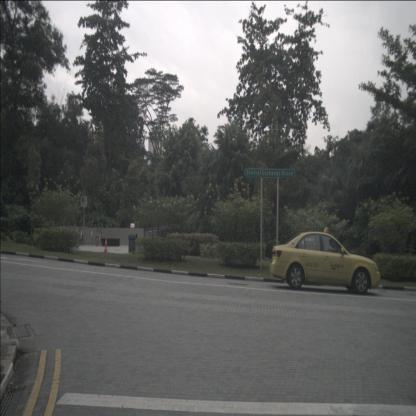cone: (103, 237, 108, 255)
